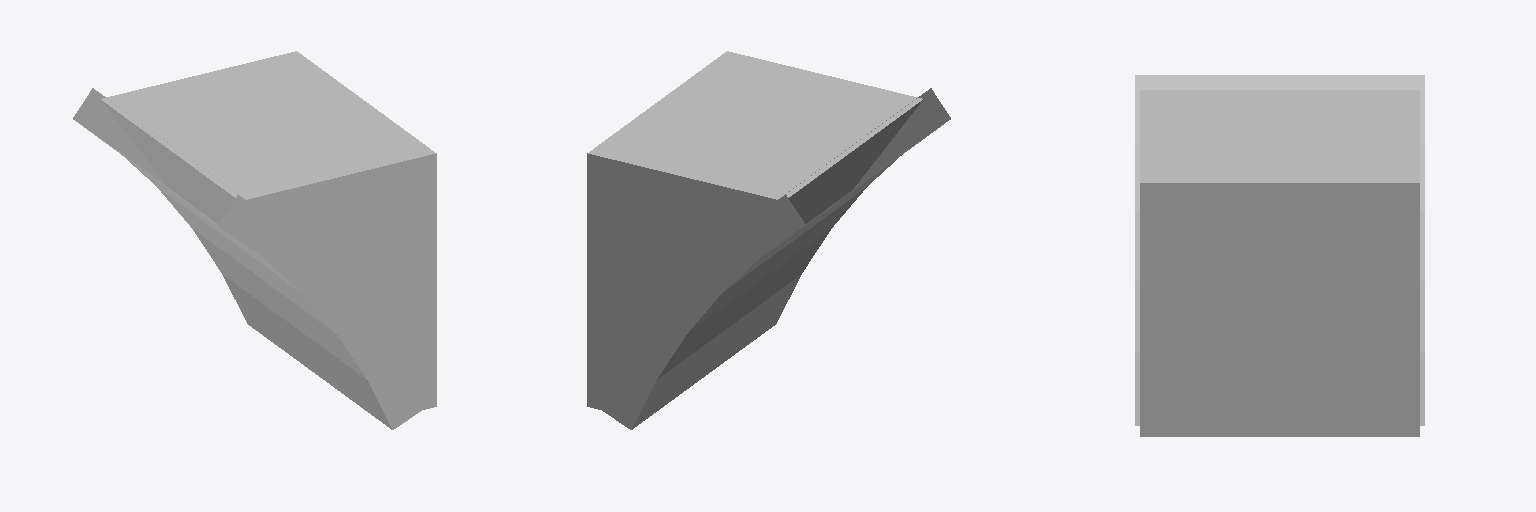
Rendered from lapis_five_arch_mid.obj.
3 renders of one model, left to right at view 1: azimuth 30°, elevation 25°; view 2: azimuth 150°, elevation 25°; view 3: azimuth 270°, elevation 25°, orthographic.
Visible parts, largest first — view 1: Arch_Mid_Cube.016; view 2: Arch_Mid_Cube.016; view 3: Arch_Mid_Cube.016.
Part boxes in pixels (x1,y1,x2,y2): Arch_Mid_Cube.016: (73, 51, 436, 429); Arch_Mid_Cube.016: (587, 51, 950, 429); Arch_Mid_Cube.016: (1135, 75, 1424, 436).
Bounding box in the file's own units: 0.9147 × 1.08 × 1.04.